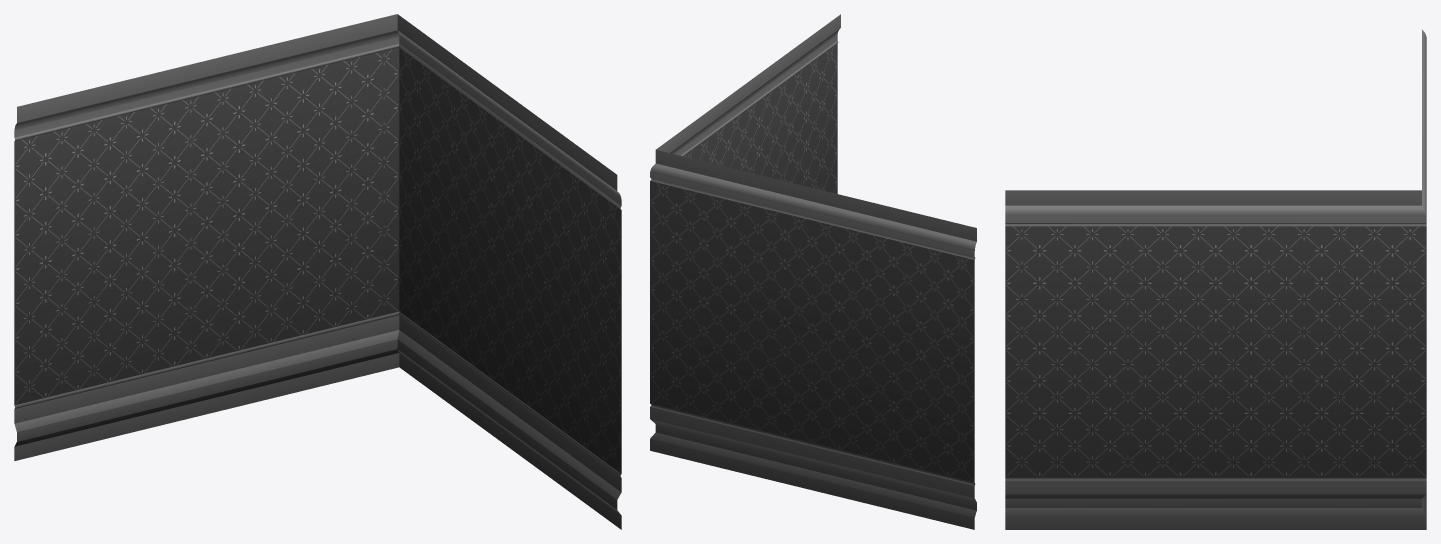
File: Wall_02_Int_Long_Light.fbx
The picture shows the model from 3 angles, left to right: view 1: azimuth 30°, elevation 25°; view 2: azimuth 150°, elevation 25°; view 3: azimuth 270°, elevation 25°; orthographic projection. The views are drawn at different scales.
Visible parts, largest first — view 1: Wall_02_Int_Long_Light; view 2: Wall_02_Int_Long_Light; view 3: Wall_02_Int_Long_Light.
Boxes of the visible parts, bbox=[...] form: Wall_02_Int_Long_Light: bbox=[14, 14, 621, 529]; Wall_02_Int_Long_Light: bbox=[650, 14, 976, 529]; Wall_02_Int_Long_Light: bbox=[1005, 29, 1426, 529].
Bounding box in the file's own units: 3 × 2.65 × 3.
